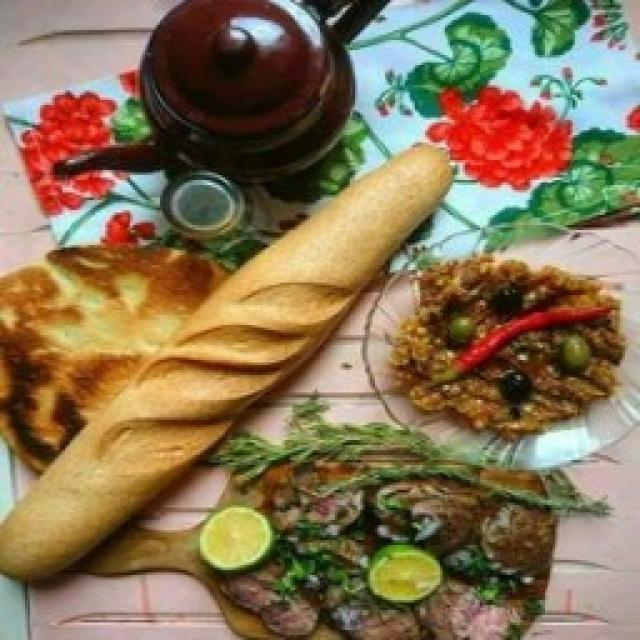Salade mechweya: (391, 255, 625, 433)
